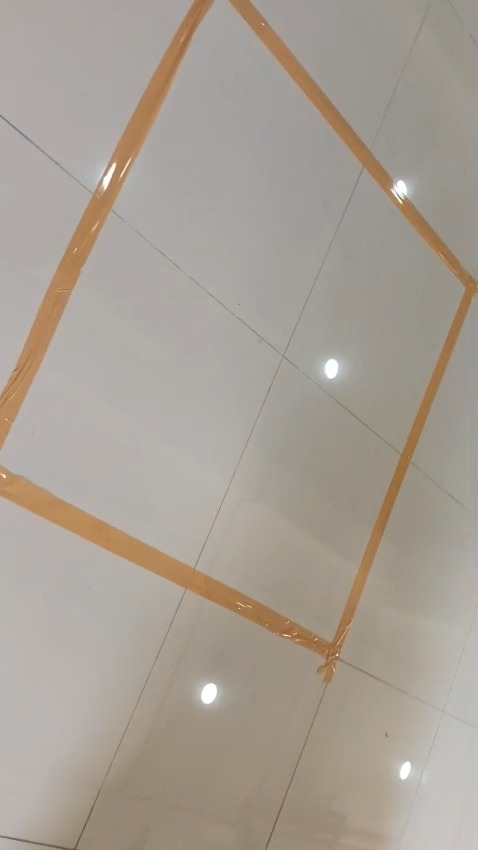floor marking: (0, 0, 477, 681), (0, 0, 212, 447), (30, 253, 445, 368)
